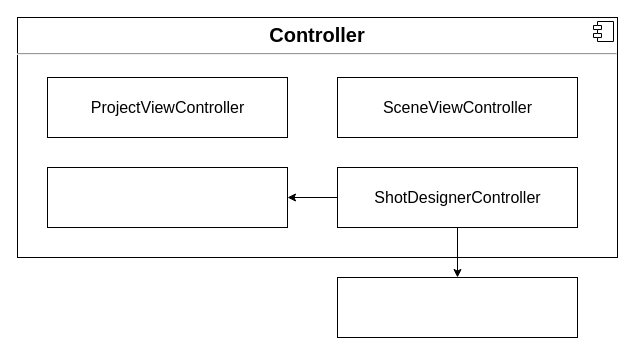
The diagram is 635 pixels wide and 355 high, and some of its shapes have lost their labels. The box of each missing label's shape, as (x1, y1, x2, y2) in pixels:
Drawing Utility: (336, 276, 578, 338)
LayerTableController: (46, 166, 288, 228)
